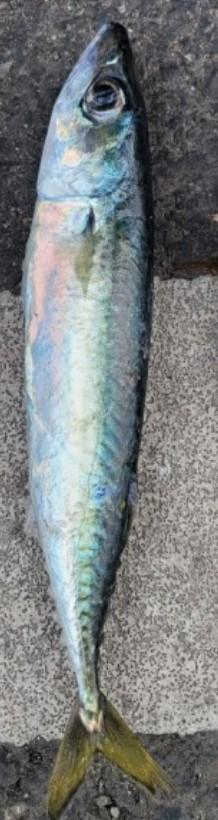fish: (23, 21, 167, 819)
